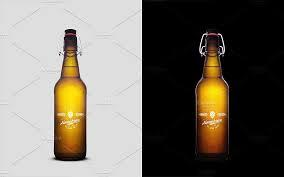Glass bottle: (43, 25, 95, 165), (187, 24, 237, 161)
